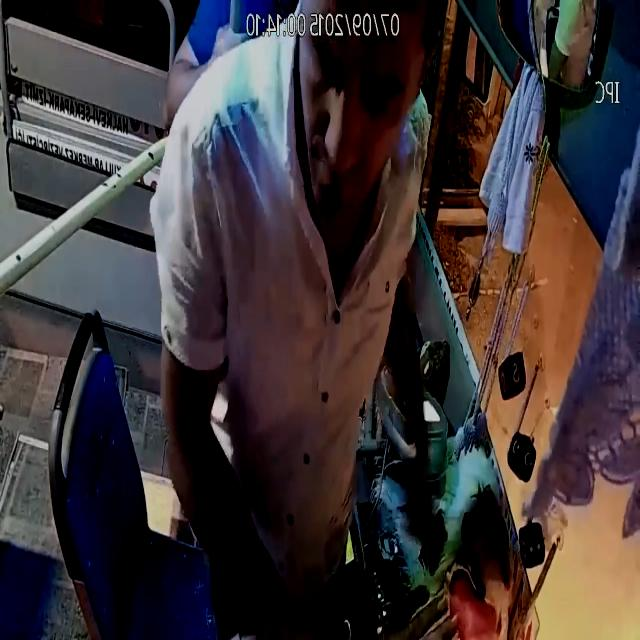fight: (154, 0, 452, 640)
